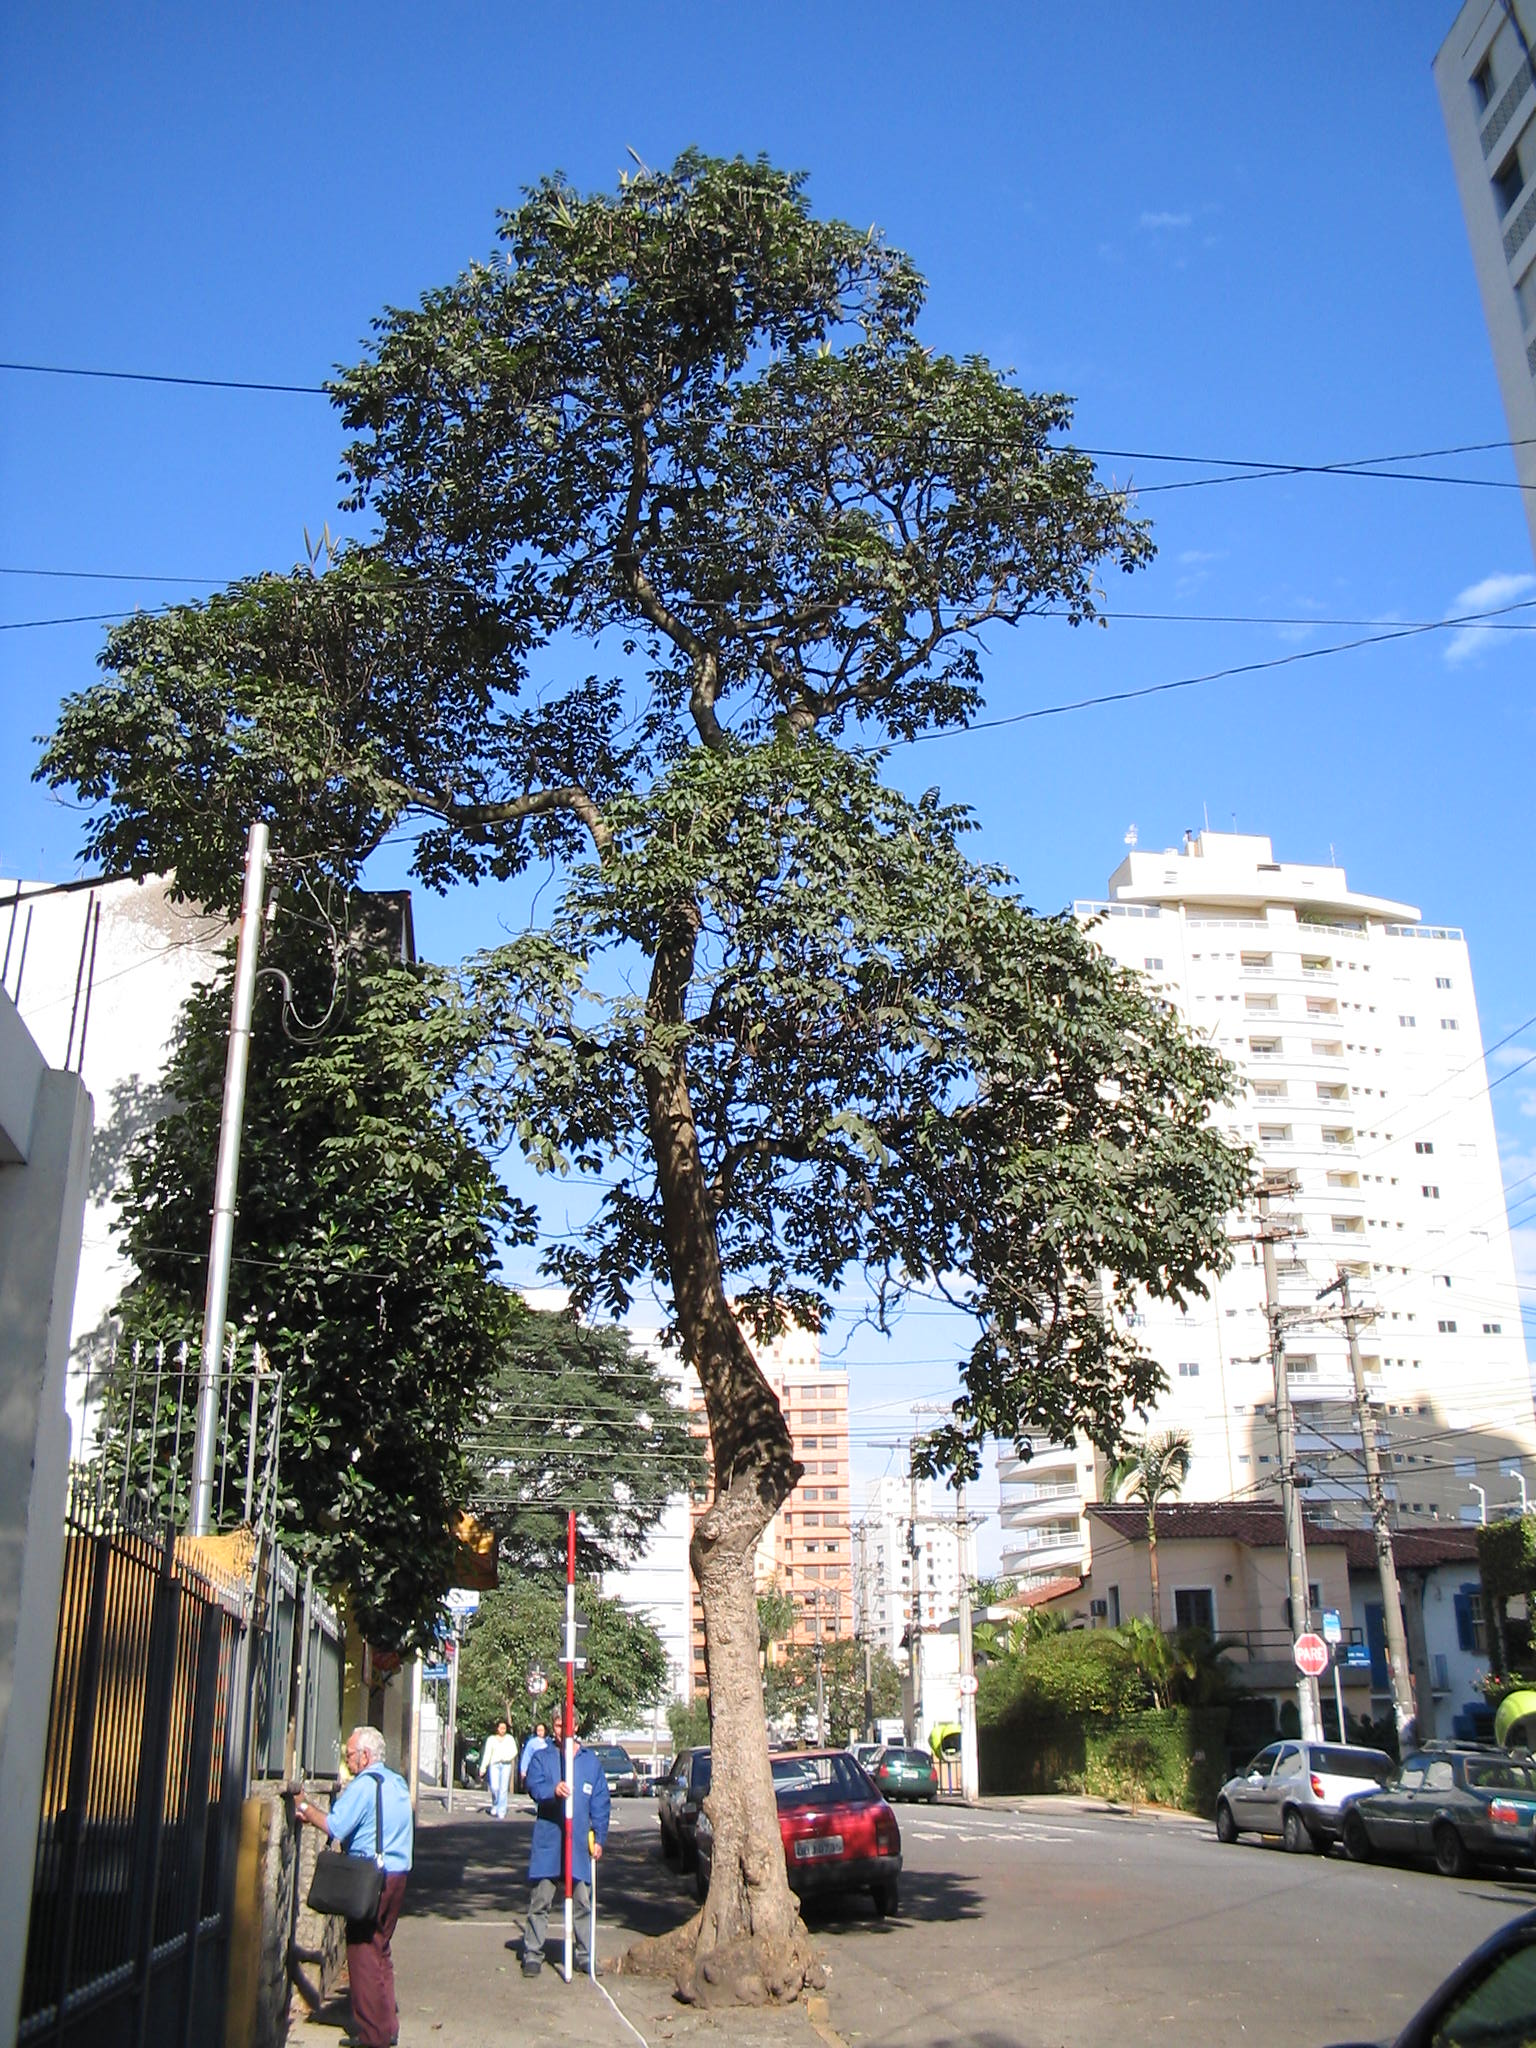crown: (27, 145, 1246, 1471)
stem: (657, 1479, 842, 2013)
stick: (545, 1511, 591, 1983)
tree: (27, 137, 1258, 2021)
